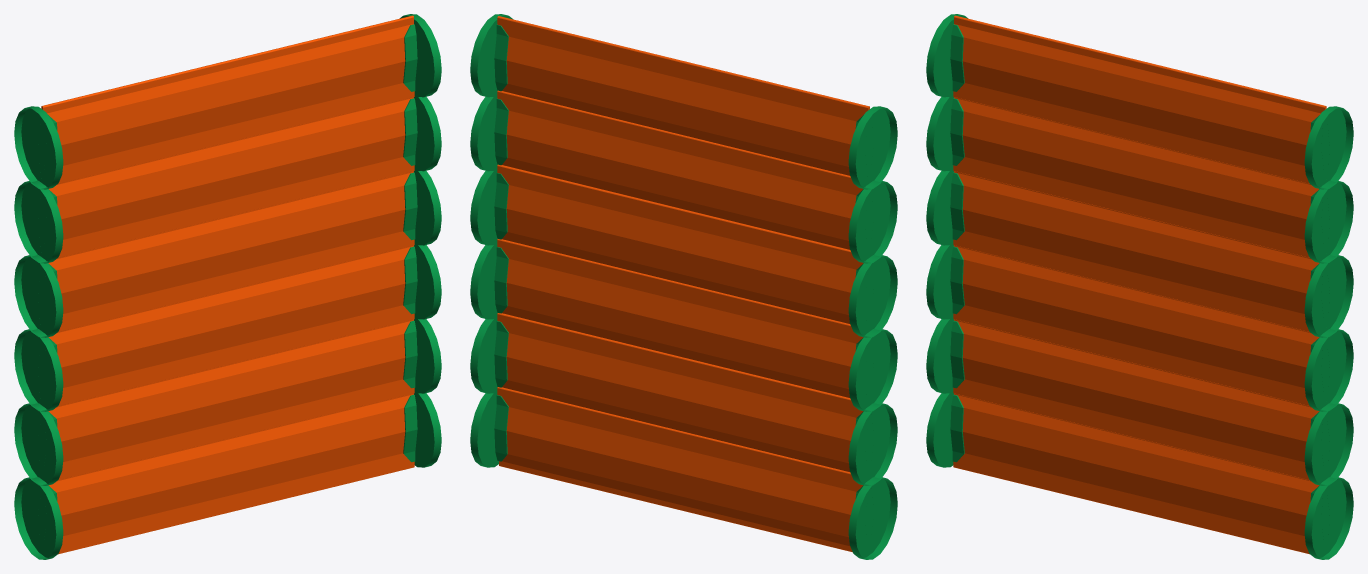
File: rekuperatorZaslon3.FBX
3 views of the same model, side by side, from view 1: azimuth 30°, elevation 25°; view 2: azimuth 150°, elevation 25°; view 3: azimuth 330°, elevation 25° (orthographic).
Parts seen in each view (by area): view 1: Object010, Object013, Object015, Object014, Object012, Object011; view 2: Object014, Object010, Object013, Object015, Object011, Object012; view 3: Object010, Object013, Object015, Object014, Object012, Object011.
Part boxes in pixels (<box>): Object010: <box>14,14,441,189</box>; Object013: <box>14,169,441,337</box>; Object015: <box>14,317,441,485</box>; Object014: <box>14,391,441,559</box>; Object012: <box>14,243,441,411</box>; Object011: <box>14,95,441,263</box>; Object014: <box>470,387,897,559</box>; Object010: <box>470,14,897,189</box>; Object013: <box>470,164,897,337</box>; Object015: <box>470,313,897,485</box>; Object011: <box>470,90,897,263</box>; Object012: <box>470,239,897,411</box>; Object010: <box>926,14,1353,189</box>; Object013: <box>926,168,1353,337</box>; Object015: <box>926,316,1353,485</box>; Object014: <box>926,390,1353,559</box>; Object012: <box>926,242,1353,411</box>; Object011: <box>926,94,1353,263</box>.
Bounding box in the file's own units: 483 × 539 × 91.32.
